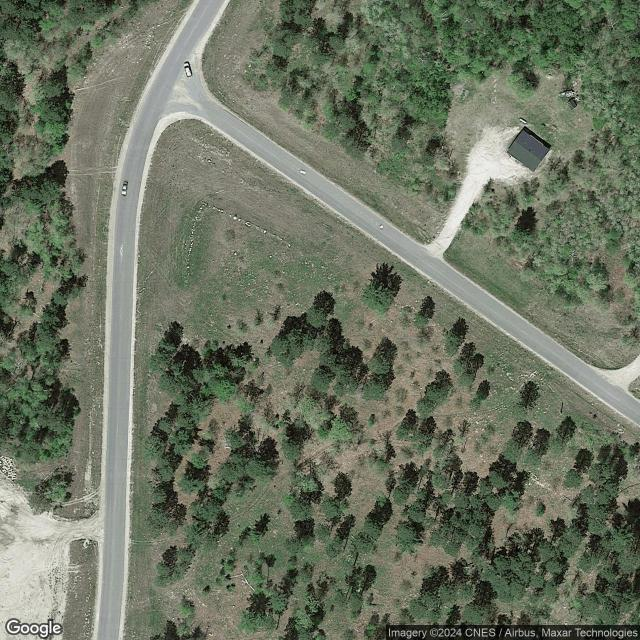Propane: (518, 116, 528, 125)
